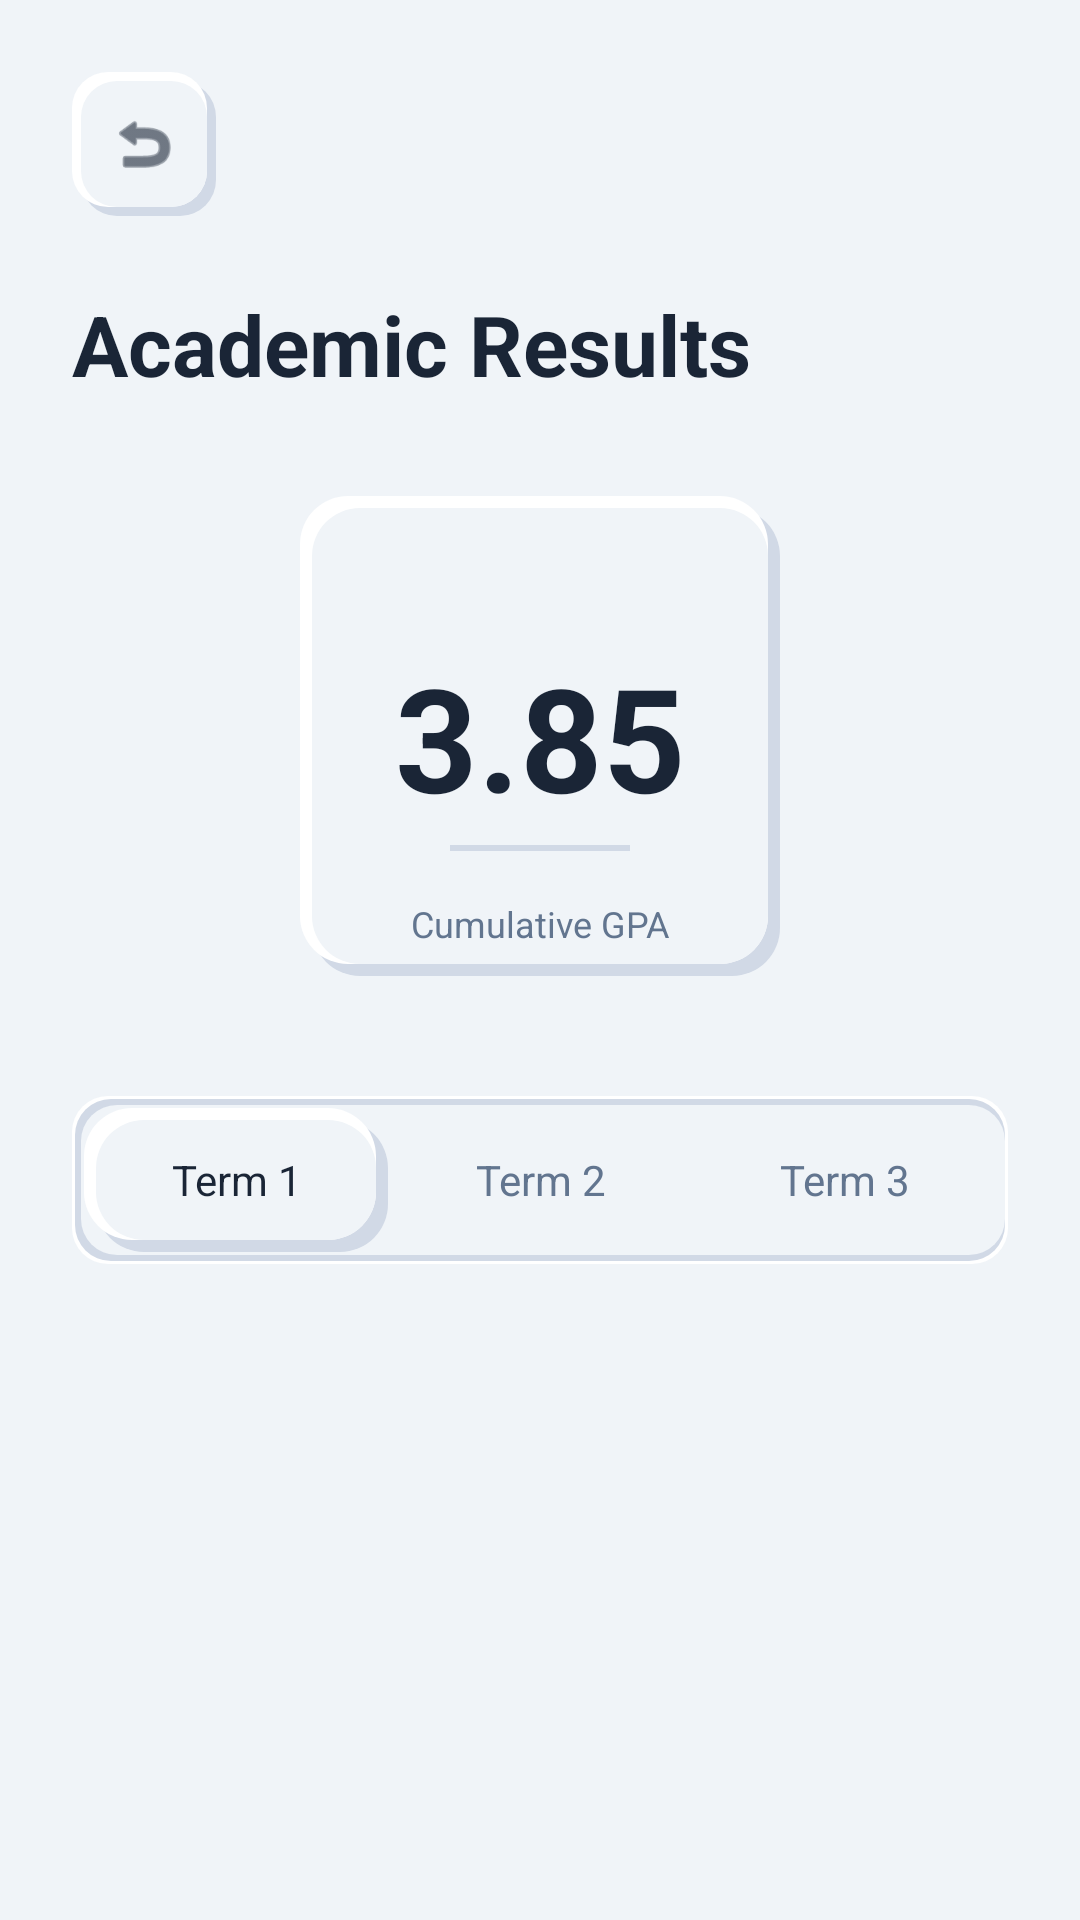

Where to tap for icons on this 1080×1920 app screen, as (x=x, y=y):
revert: (x=145, y=144)
